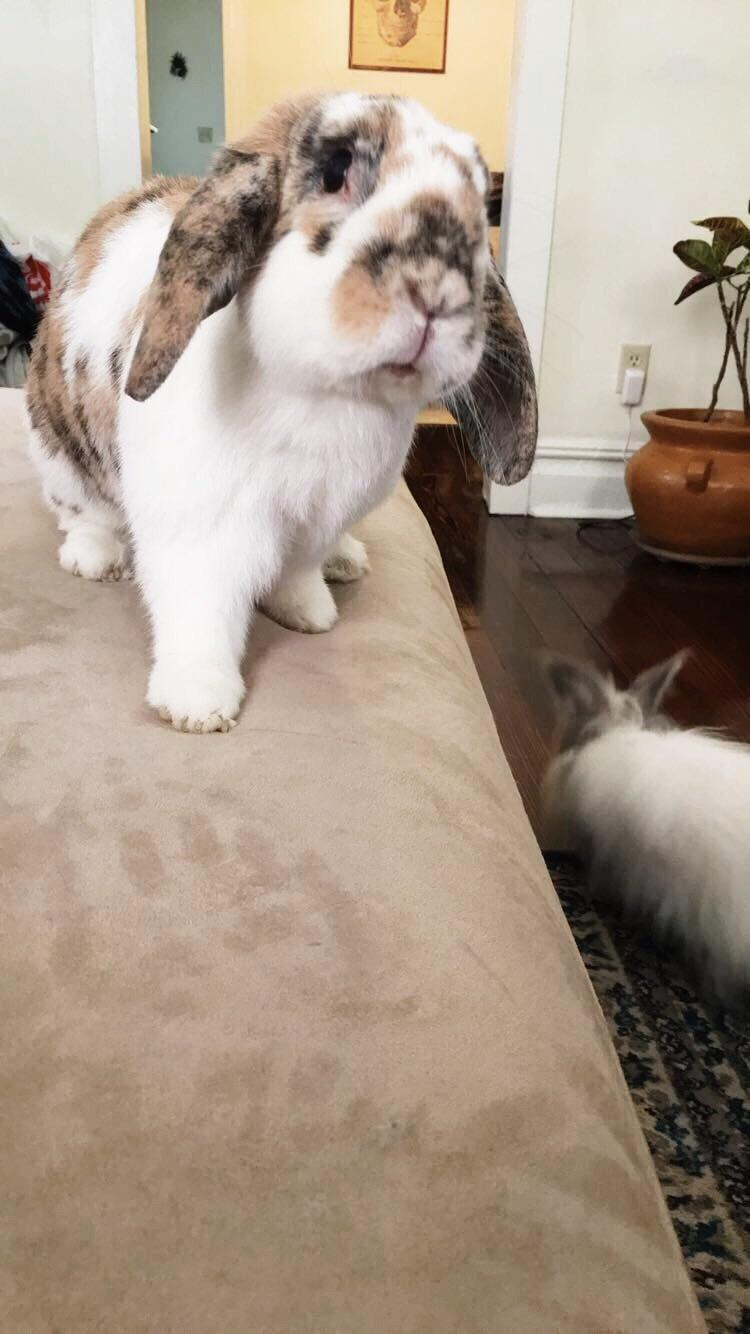bunny: (11, 61, 561, 746), (520, 636, 750, 950)
